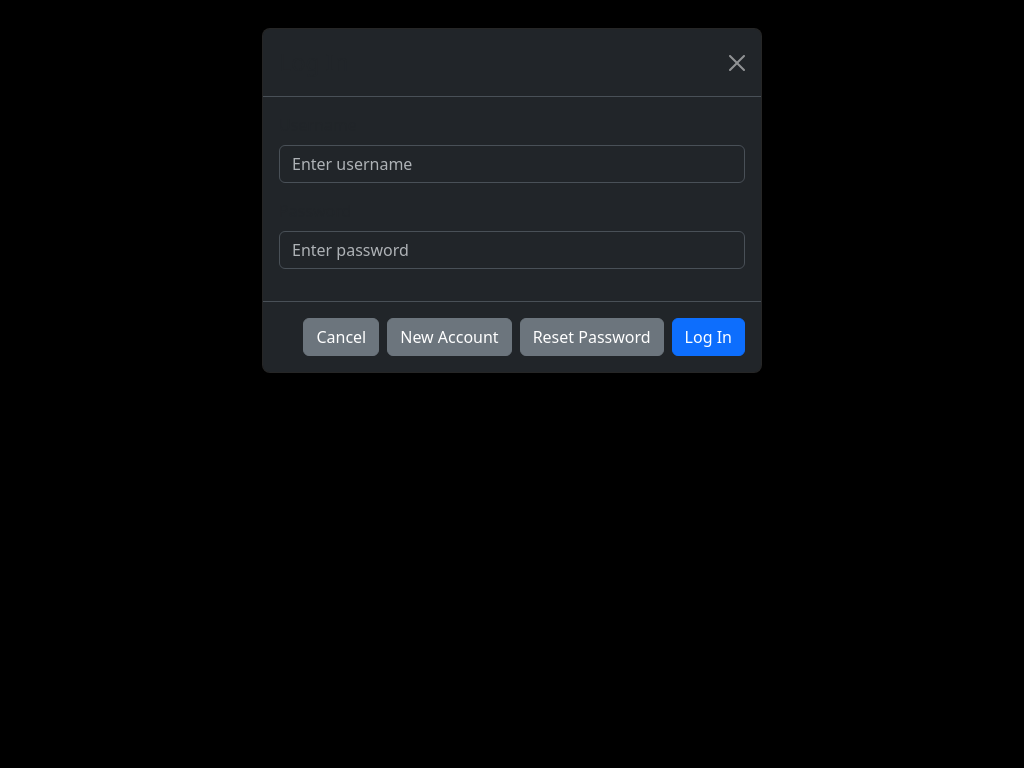
Test case: log-in menu › functionality › should alert if there is an invalid user on cancel
Click the button "Cancel": (341, 337) [303,318,379,356]
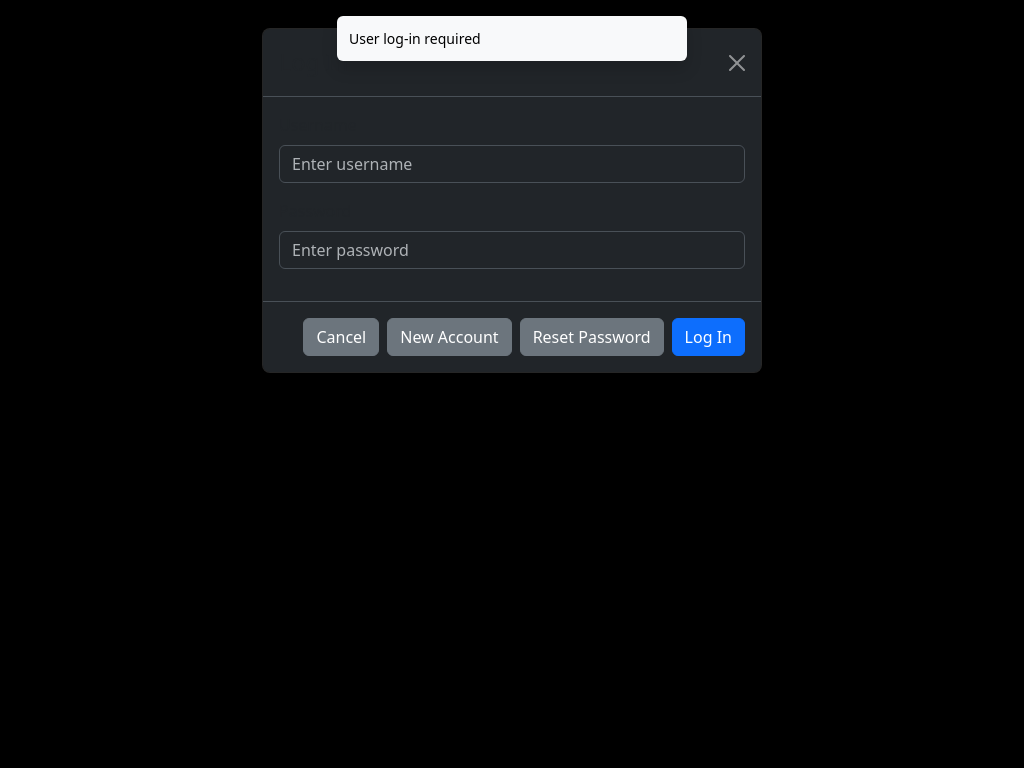
Check: the text "User log-in required" is shown, box [349,29,481,48]
